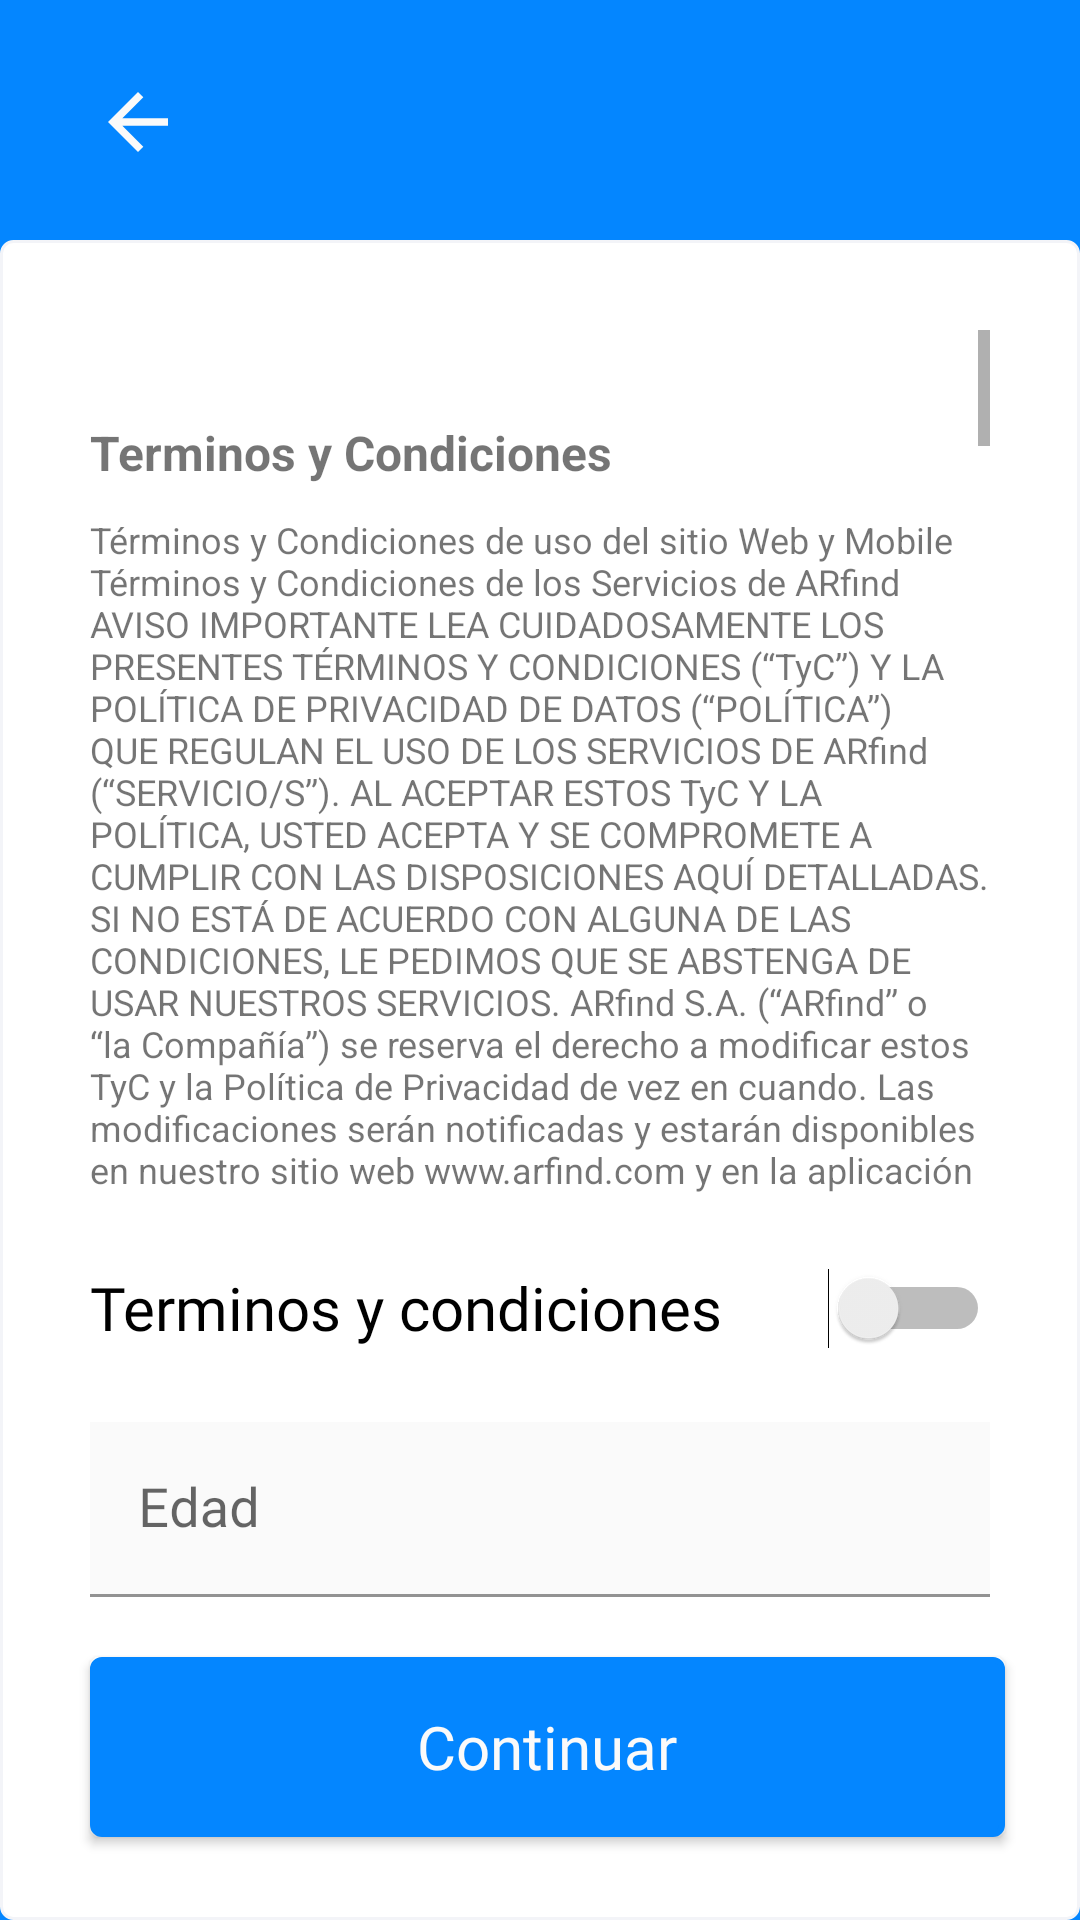

Icons on this 1080px×1920px Android screen, each with the point to tap as point (x, y):
back: point (138, 122)
